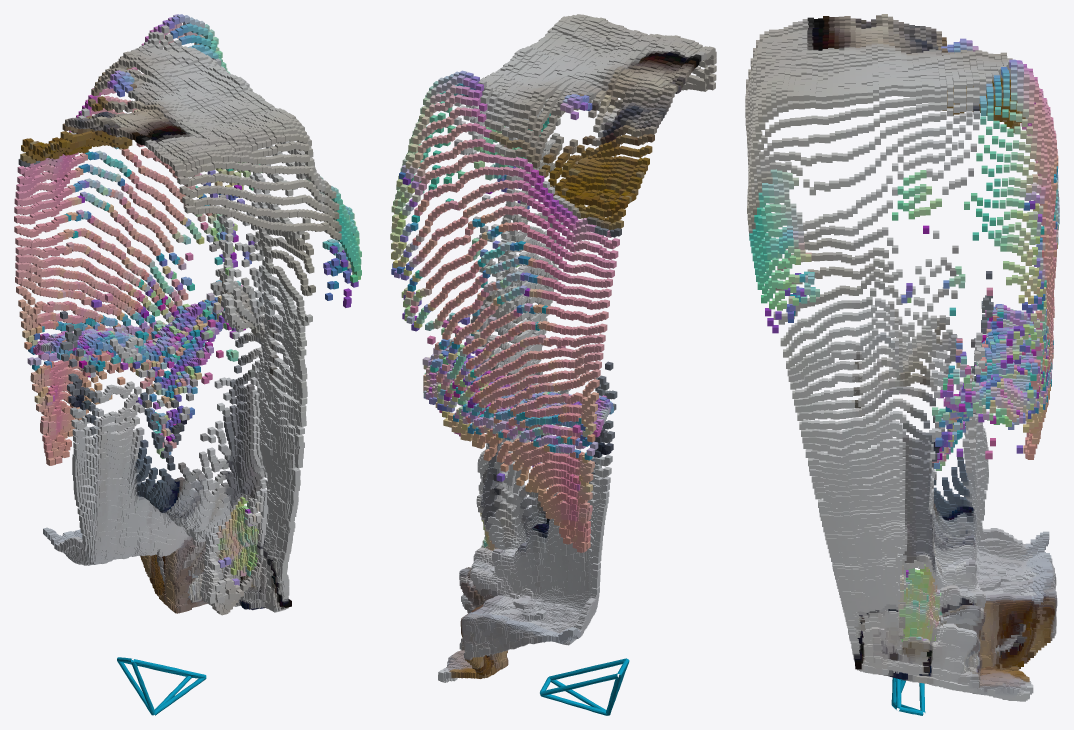
Rendered from pred_0-compressed.glb.
The picture shows the model from 3 angles, left to right: view 1: azimuth 30°, elevation 25°; view 2: azimuth 150°, elevation 25°; view 3: azimuth 270°, elevation 25°; orthographic projection. The views are drawn at different scales.
Size of the model in its own units: 2.26 by 6.07 by 2.52.
